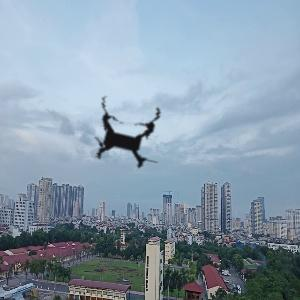drone: (57, 68, 195, 206)
